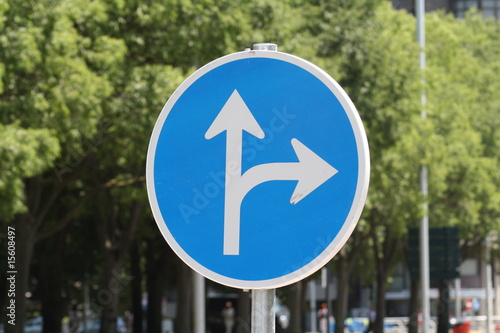ileri_veya_saga: (140, 49, 376, 292)
